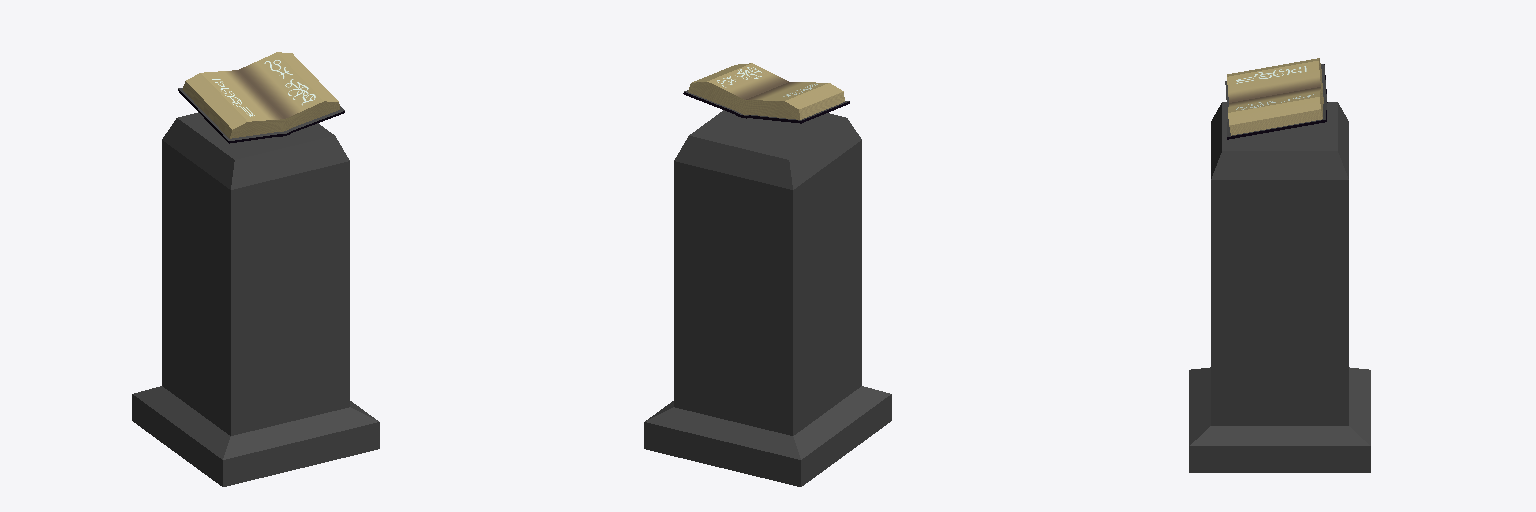
3 renders of one model, left to right at view 1: azimuth 30°, elevation 25°; view 2: azimuth 150°, elevation 25°; view 3: azimuth 270°, elevation 25°, orthographic.
Bounding box in the file's own units: 9.96 × 21.76 × 9.96.
1 materials, 1 textured.